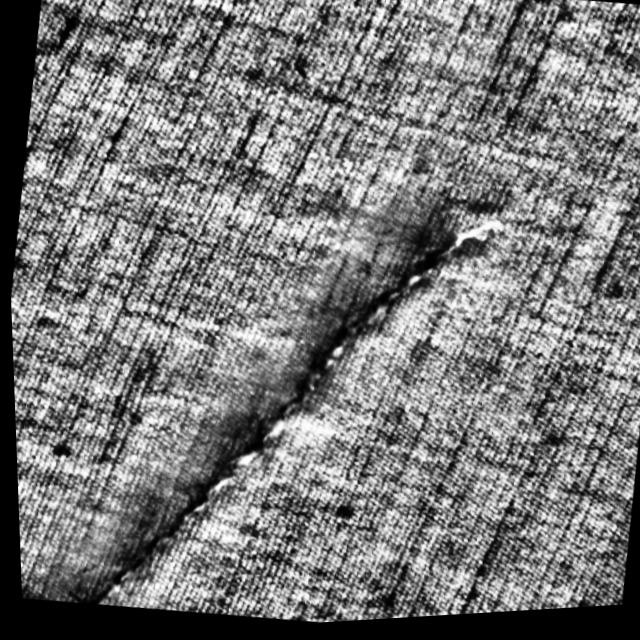Stitch: (5, 119, 562, 639)
